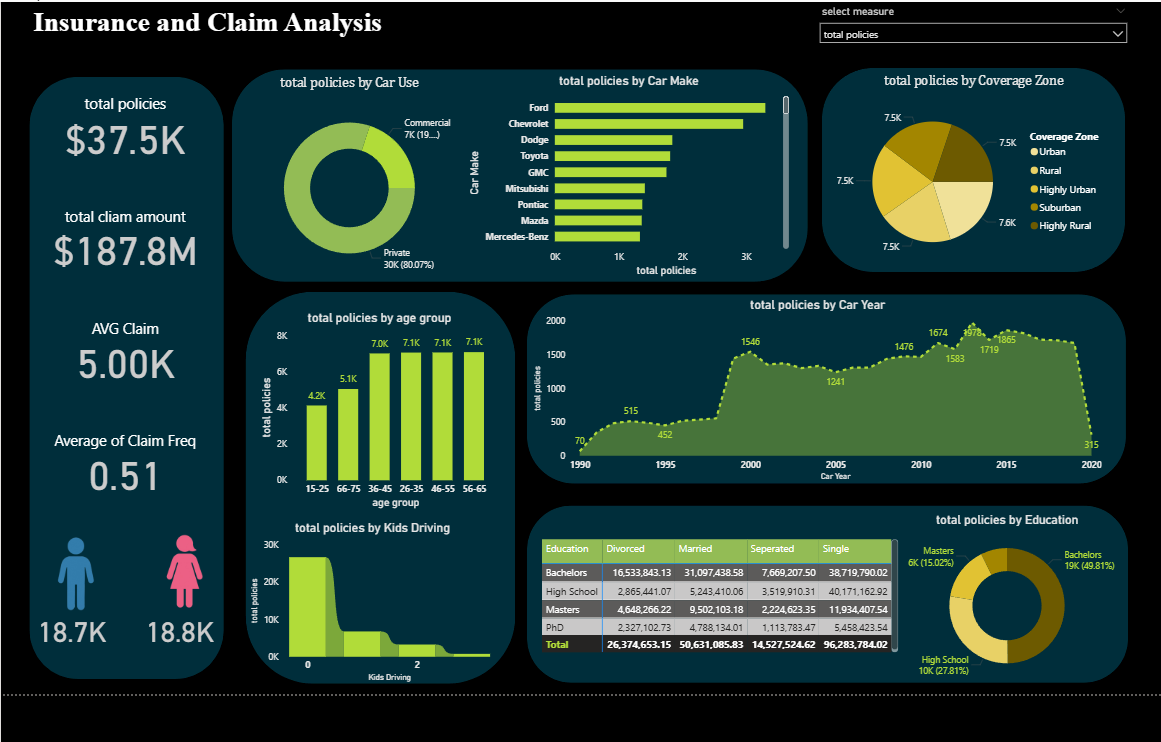

The dashboard page shown, as its layout file describes it:
{"tool":"powerbi","page":{"name":"Page 1","canvas":[1600,950],"ordinal":0},"visuals":[{"type":"shape","box":[706.7,676.7,855,273.3],"z":0},{"type":"shape","box":[1112,76,446,310],"z":1000},{"type":"shape","box":[706,386,852,290],"z":2000},{"type":"textbox","box":[40,0,532,68],"z":3000},{"type":"shape","box":[23.3,86.7,296.7,856.7],"z":4000},{"type":"cardVisual","fields":{"Data":["insurance_data_car.total policies","insurance_data_car.total cliam amount","insurance_data_car.AVG Claim","Avg(insurance_data_car.Claim Freq)"]},"box":[40,94,262,618],"z":5000},{"type":"cardVisual","fields":{"Data":["insurance_data_car.Male Count","insurance_data_car.female count"]},"box":[21.7,773.3,298.3,176.7],"z":6000},{"type":"image","box":[186,700,134,162],"z":7000},{"type":"image","box":[36,706,134,156],"z":8000},{"type":"slicer","fields":{"Values":["select measure .select measure "]},"box":[1114,0,442,68],"z":9000},{"type":"shape","box":[301.7,76.7,820,321.7],"z":10000},{"type":"donutChart","fields":{"Category":["insurance_data_car.Car Use"],"Y":["insurance_data_car.total policies"]},"box":[320,101.7,315,290],"z":11000},{"type":"clusteredBarChart","fields":{"Category":["insurance_data_car.Car Make"],"Y":["insurance_data_car.total policies"]},"box":[636,98,450,284],"z":12000},{"type":"pieChart","fields":{"Y":["insurance_data_car.total policies"],"Category":["insurance_data_car.Coverage Zone"]},"box":[1140,98,388,280],"z":13000},{"type":"shape","box":[320,382,400,568],"z":14000},{"type":"columnChart","fields":{"Y":["insurance_data_car.total policies"],"Category":["insurance_data_car.age group"]},"box":[351.7,423.3,335,276.7],"z":15000},{"type":"ribbonChart","fields":{"Y":["insurance_data_car.total policies"],"Category":["insurance_data_car.Kids Driving"]},"box":[338.3,711.7,343.3,226.7],"z":16000},{"type":"areaChart","fields":{"Category":["insurance_data_car.Car Year"],"Y":["insurance_data_car.total policies"]},"box":[726,404,790,258],"z":17000},{"type":"donutChart","fields":{"Y":["insurance_data_car.total policies"],"Category":["insurance_data_car.Education"]},"box":[1198.3,700,363.3,238.3],"z":18000},{"type":"pivotTable","fields":{"Rows":["insurance_data_car.Education"],"Columns":["insurance_data_car.Marital Status"],"Values":["insurance_data_car.total cliam amount"]},"box":[738.3,731.7,498.3,165],"z":19000}]}

Visuals, with their boxes on the page's 1600x950 design canvas (x1, y1, x2, y2). These are canvas units, not pixel positions in the 1161x742 screenshot, which may show the page scaled, cropped or inside an application window:
shape: box(707, 677, 1562, 950)
shape: box(1112, 76, 1558, 386)
shape: box(706, 386, 1558, 676)
textbox: box(40, 0, 572, 68)
shape: box(23, 87, 320, 943)
cardVisual - insurance_data_car.total policies x insurance_data_car.total cliam amount: box(40, 94, 302, 712)
cardVisual - insurance_data_car.Male Count x insurance_data_car.female count: box(22, 773, 320, 950)
image: box(186, 700, 320, 862)
image: box(36, 706, 170, 862)
slicer - select measure .select measure : box(1114, 0, 1556, 68)
shape: box(302, 77, 1122, 398)
donutChart - insurance_data_car.Car Use x insurance_data_car.total policies: box(320, 102, 635, 392)
clusteredBarChart - insurance_data_car.Car Make x insurance_data_car.total policies: box(636, 98, 1086, 382)
pieChart - insurance_data_car.total policies x insurance_data_car.Coverage Zone: box(1140, 98, 1528, 378)
shape: box(320, 382, 720, 950)
columnChart - insurance_data_car.total policies x insurance_data_car.age group: box(352, 423, 687, 700)
ribbonChart - insurance_data_car.total policies x insurance_data_car.Kids Driving: box(338, 712, 682, 938)
areaChart - insurance_data_car.Car Year x insurance_data_car.total policies: box(726, 404, 1516, 662)
donutChart - insurance_data_car.total policies x insurance_data_car.Education: box(1198, 700, 1562, 938)
pivotTable - insurance_data_car.Education x insurance_data_car.Marital Status: box(738, 732, 1237, 897)
